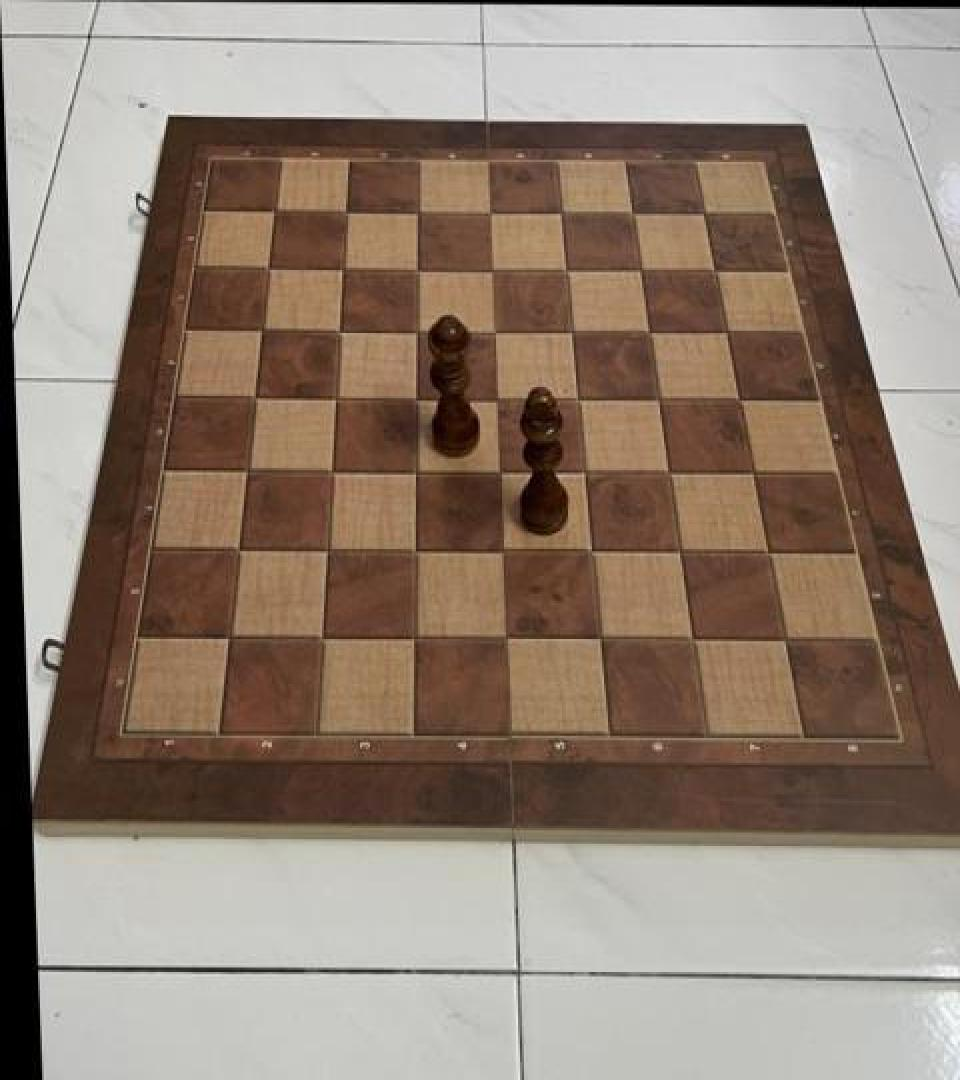xcorner: (215, 617, 247, 654), (689, 197, 721, 233), (618, 196, 650, 232), (546, 196, 578, 232), (474, 196, 506, 232), (403, 196, 435, 232), (700, 253, 732, 289), (626, 253, 658, 289), (551, 253, 583, 289), (477, 252, 509, 288), (402, 252, 434, 288), (328, 252, 360, 288), (254, 251, 286, 287), (712, 315, 744, 351), (634, 314, 666, 350), (557, 314, 589, 350), (479, 314, 511, 350), (402, 314, 434, 350), (325, 313, 357, 349), (247, 313, 279, 349), (725, 382, 757, 418), (644, 382, 676, 418), (563, 380, 595, 416), (482, 380, 514, 416), (402, 380, 434, 416), (321, 379, 353, 415), (240, 379, 272, 415), (739, 454, 771, 490), (654, 454, 686, 490), (570, 454, 602, 490), (485, 452, 517, 488), (401, 452, 433, 488), (317, 452, 349, 488), (233, 451, 265, 487), (754, 533, 786, 569), (666, 533, 698, 569), (577, 532, 609, 568), (489, 532, 521, 568), (401, 532, 433, 568), (312, 531, 344, 567), (224, 531, 256, 567), (771, 621, 803, 657), (678, 620, 710, 656), (585, 620, 617, 656), (493, 619, 525, 655), (400, 619, 432, 655), (308, 619, 340, 655), (331, 195, 363, 230), (260, 195, 292, 230)
